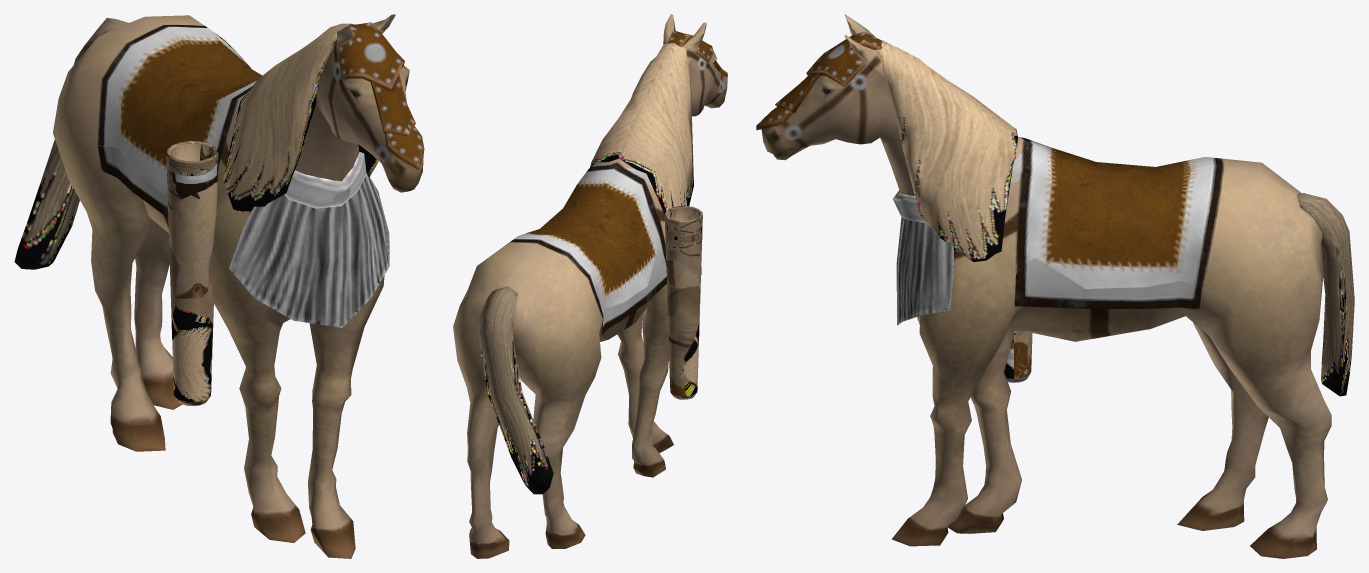
The model's file is body-mediumarchers.glb.
The picture shows the model from 3 angles, left to right: view 1: azimuth 30°, elevation 25°; view 2: azimuth 150°, elevation 25°; view 3: azimuth 270°, elevation 25°; orthographic projection. The views are drawn at different scales.
Bounding box in the file's own units: 0.909 × 2.5 × 2.65.
1 material, 1 textured.
